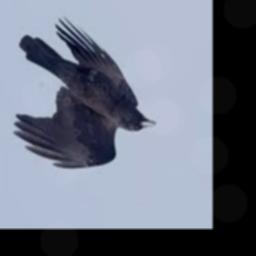Crow: (13, 19, 157, 171)
